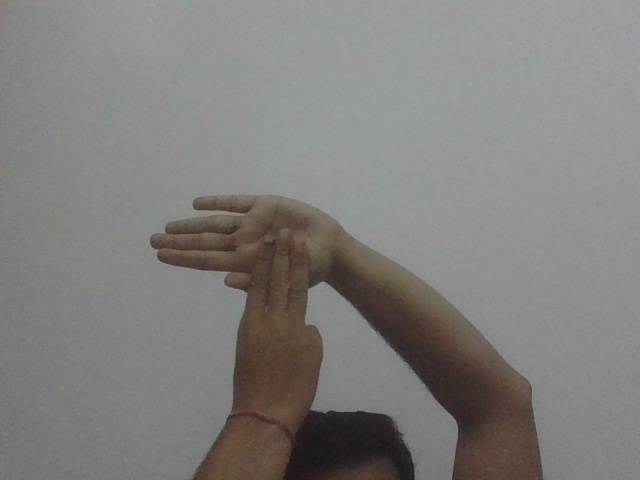M: (146, 190, 338, 371)
